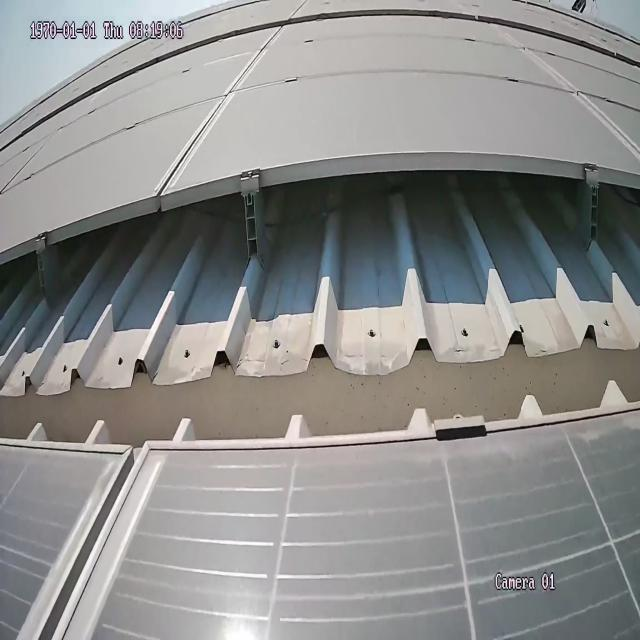interior panel: (17, 472, 169, 640), (157, 37, 279, 180), (499, 39, 639, 156)
outher panel: (0, 157, 640, 453)
